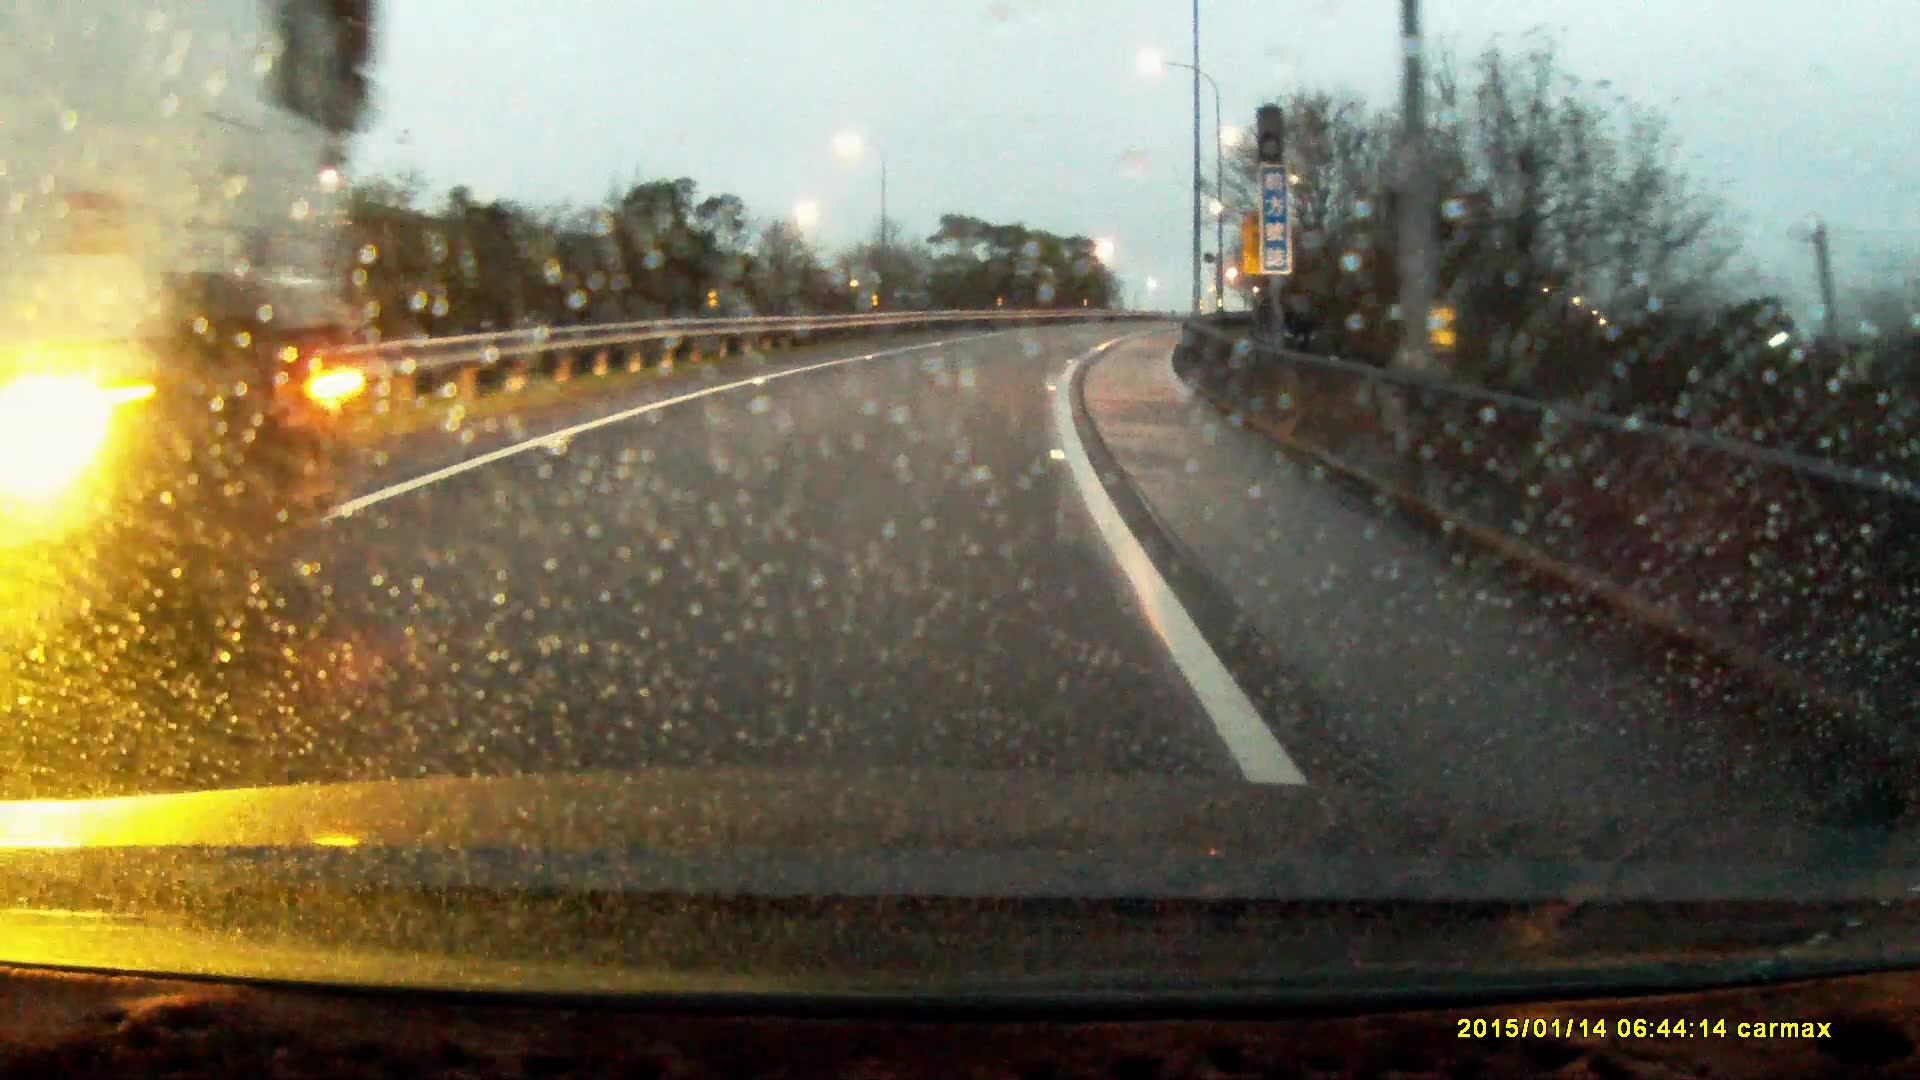vehicle: (1, 1, 368, 647)
